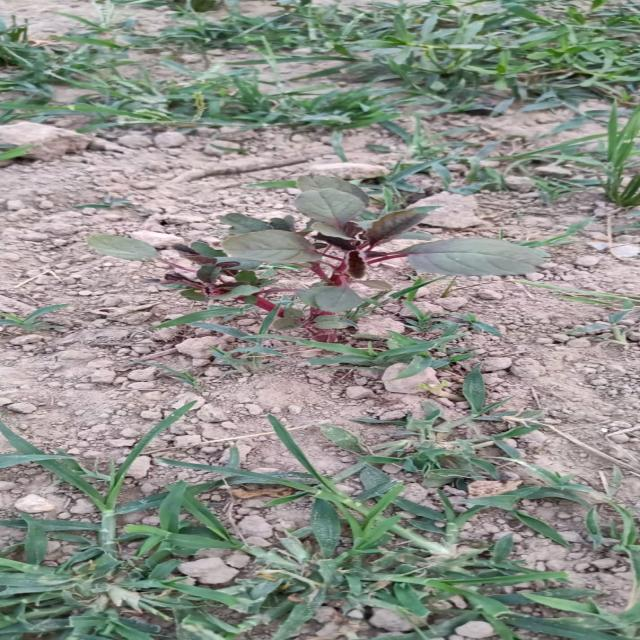plant: (160, 176, 544, 341), (90, 235, 157, 260)
